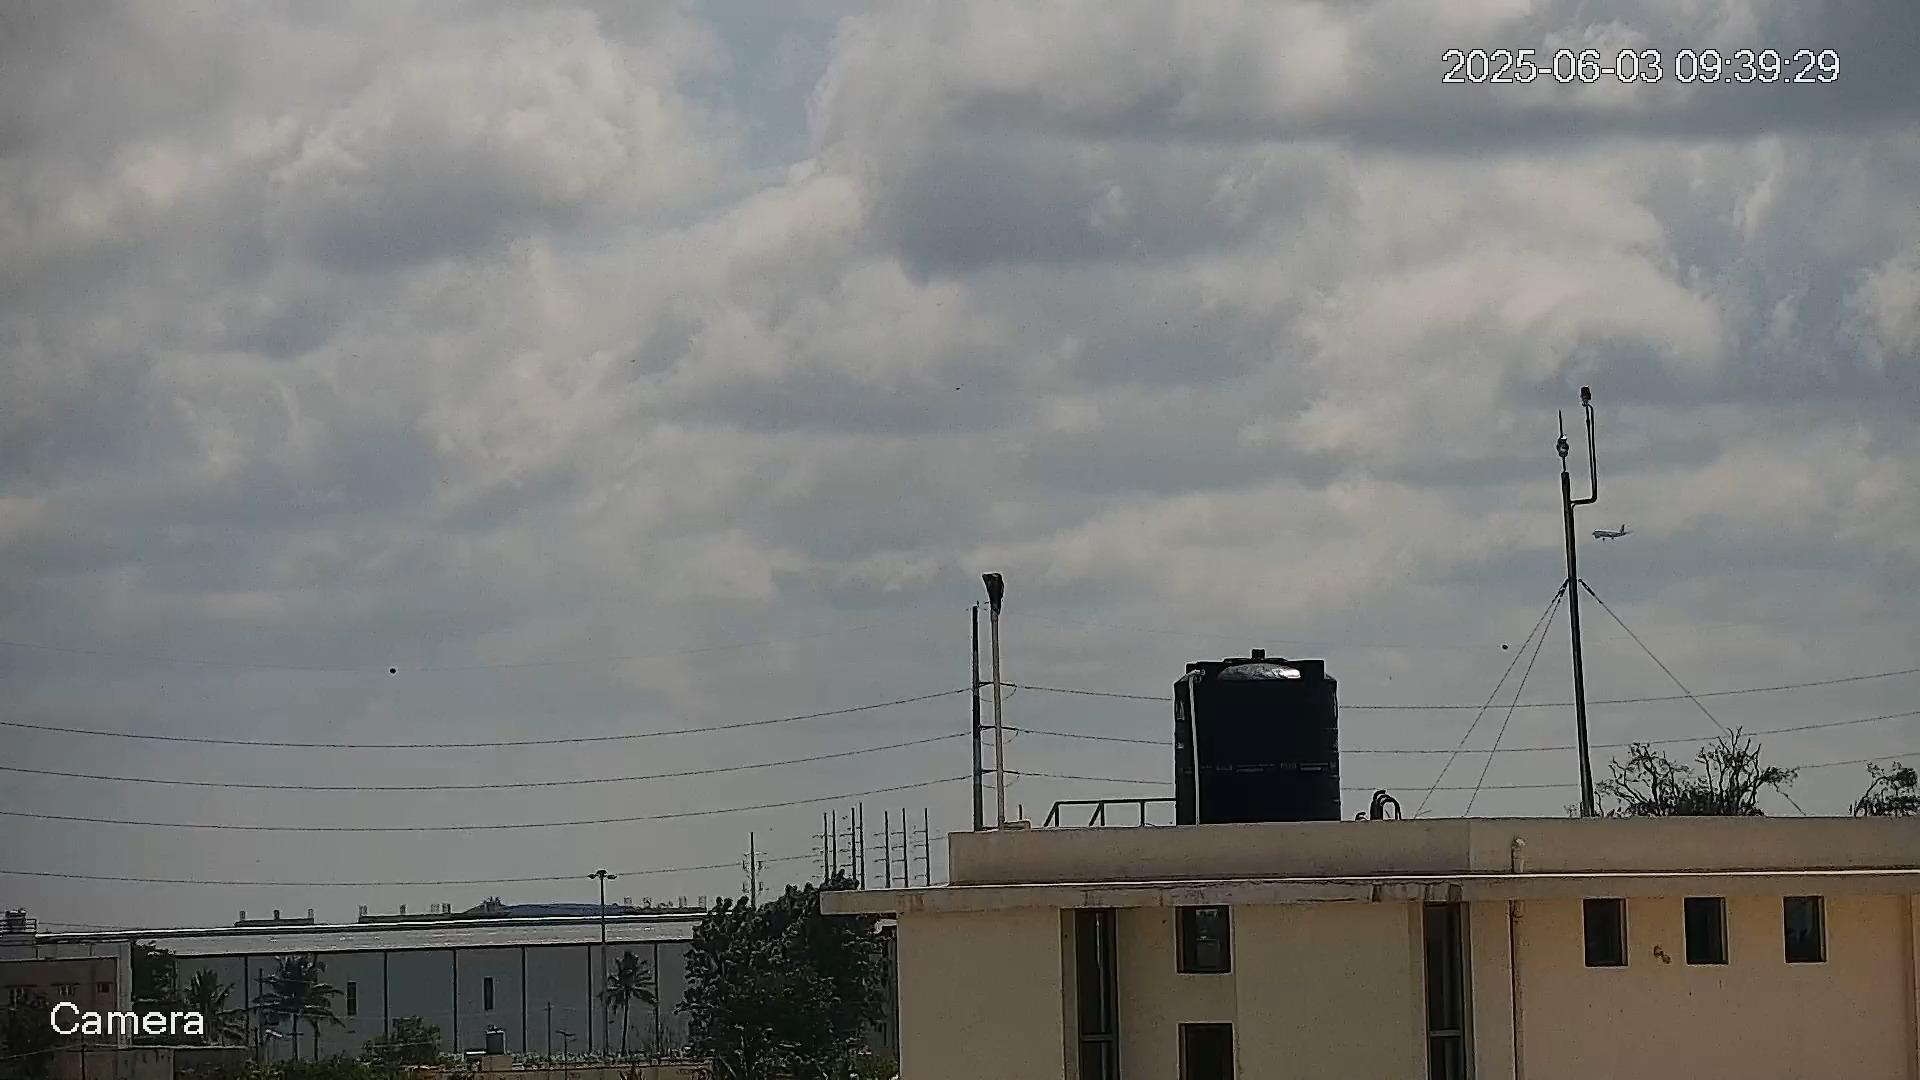Aircraft: (1590, 525, 1633, 542)
